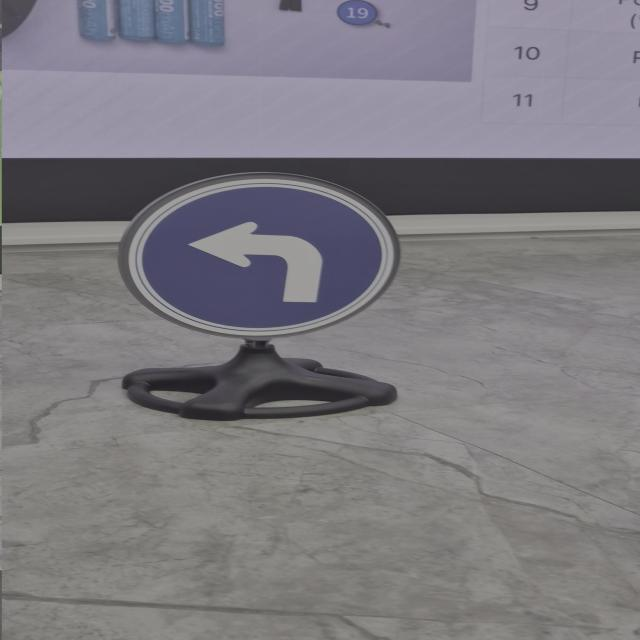left_direction: (114, 168, 416, 348)
